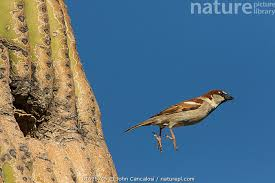hsparrow: (122, 88, 238, 154)
